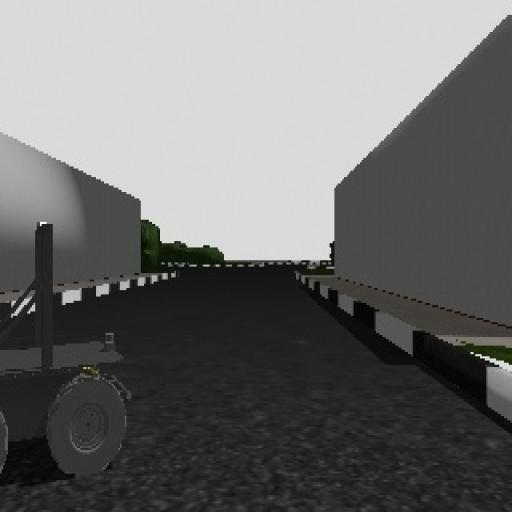huskya200: (0, 201, 136, 512)
